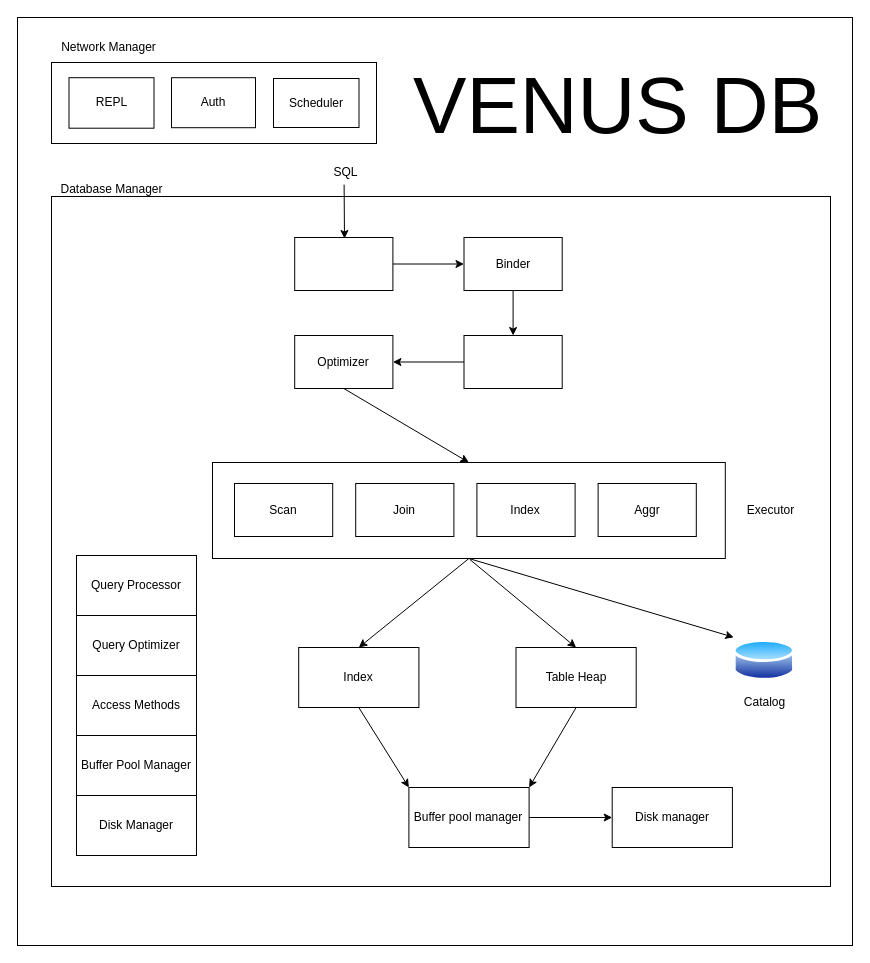
This 870x963 diagram has some shape labels left out. The centre of each missing label's shape, as x and y in pixels:
Parser: point 343,263
Planner: point 512,361
